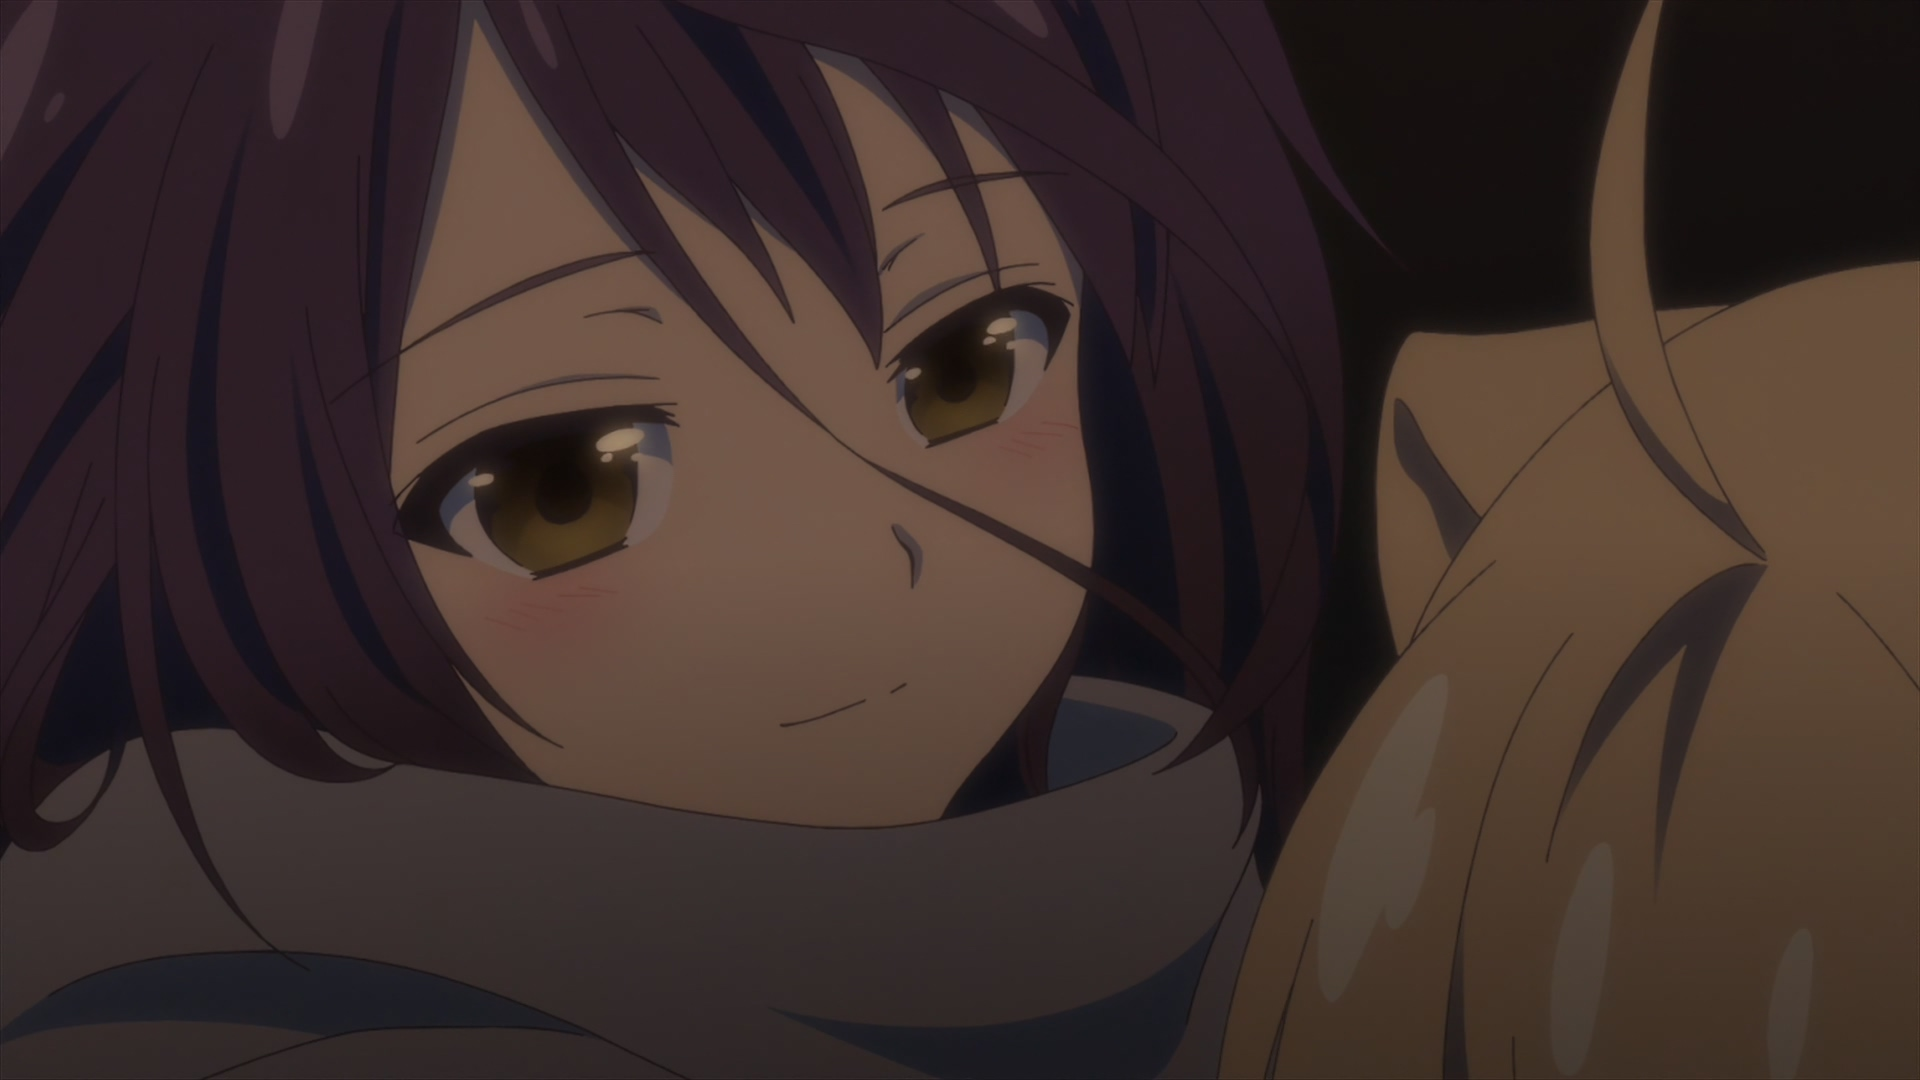皋: (1, 1, 1396, 1080)
